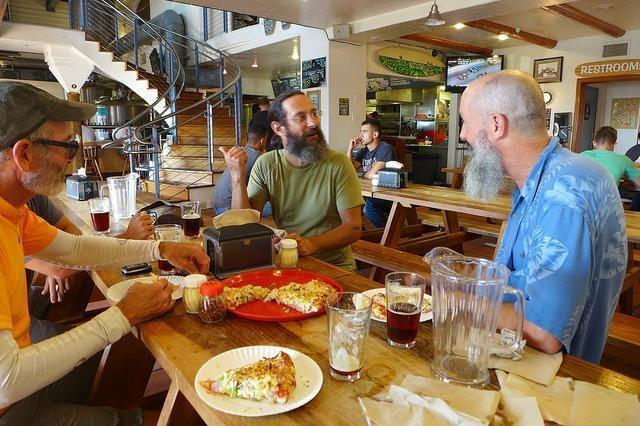glass-normal: (325, 289, 373, 381), (384, 271, 426, 347), (87, 194, 112, 233), (179, 198, 202, 239)
